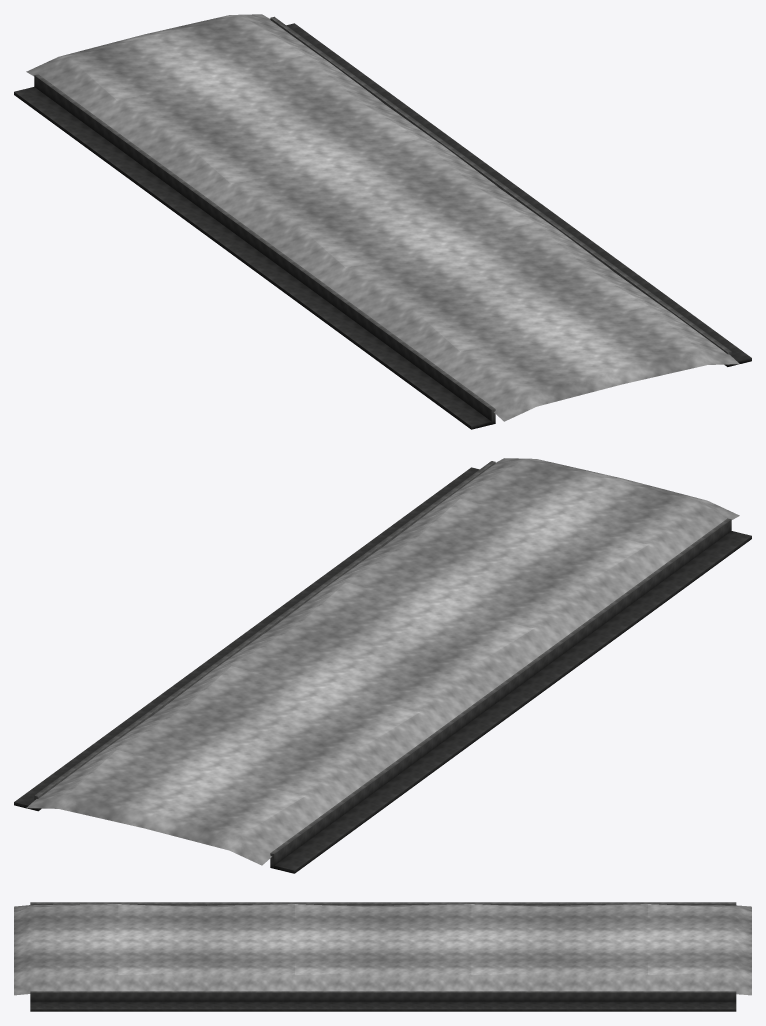
The model's file is AMB_HT_JARI.glb.
3 views of the same model, one above another, from view 1: azimuth 30°, elevation 25°; view 2: azimuth 150°, elevation 25°; view 3: azimuth 270°, elevation 25° (orthographic). The views are drawn at different scales.
Visible parts, largest first — view 1: Mesh1; view 2: Mesh1; view 3: Mesh1.
Part boxes in pixels (x1,y1,x2,y2): Mesh1: [14, 14, 751, 429]; Mesh1: [14, 458, 751, 873]; Mesh1: [14, 902, 751, 1011].
Size of the model in its own units: 35.42 by 3.13 by 105.
2 materials, 2 textured.
